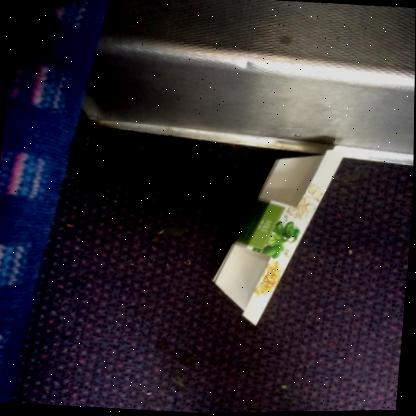Paper: (213, 151, 347, 327)
